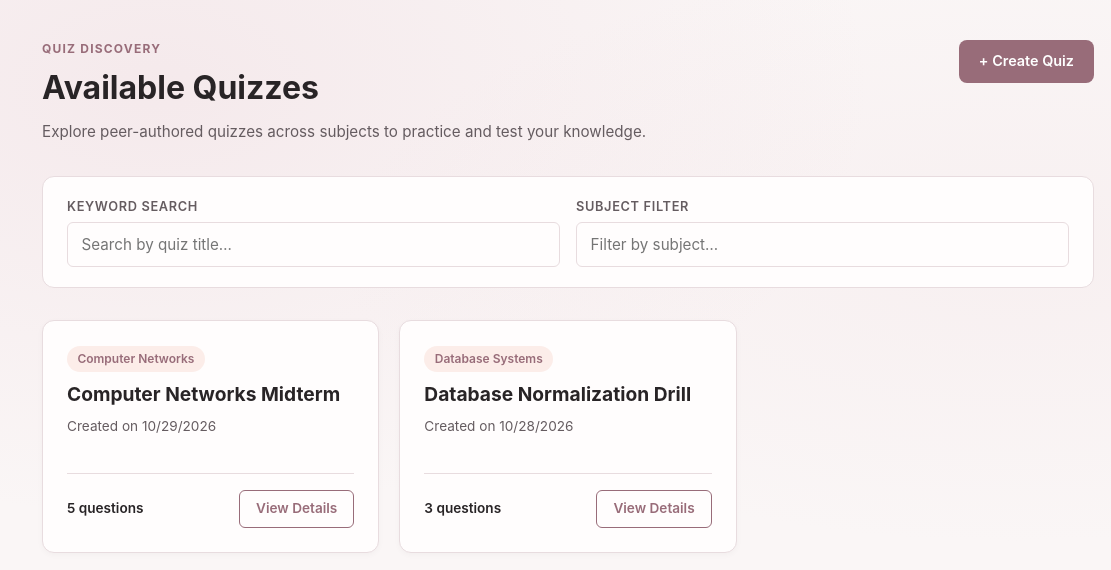
Test: QuizListPage (CSMQ-51) › clears filters when Clear Filters button is clicked
This screenshot has width=1111, height=570.
Check: the heading "Computer Networks Midterm" is shown, box x1=67 y1=382 x2=354 y2=408
Type "Networks" into the field with placeholder "Search by quiz title…".
click(314, 245); type("Networks")  # box x1=67 y1=222 x2=560 y2=267
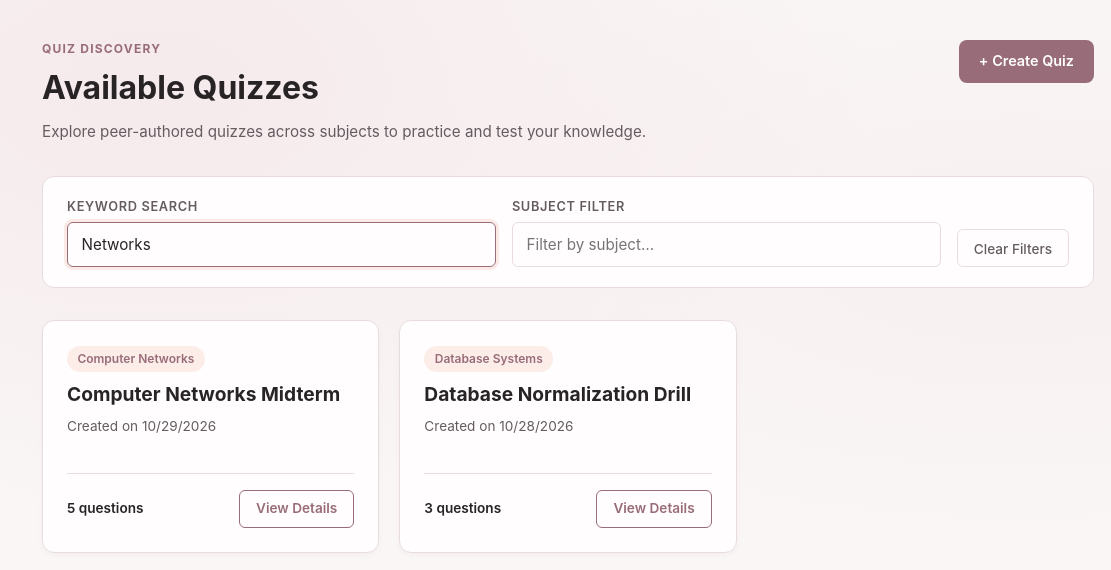
Click the button "Clear Filters".
click(1013, 248)  # box x1=957 y1=229 x2=1069 y2=267
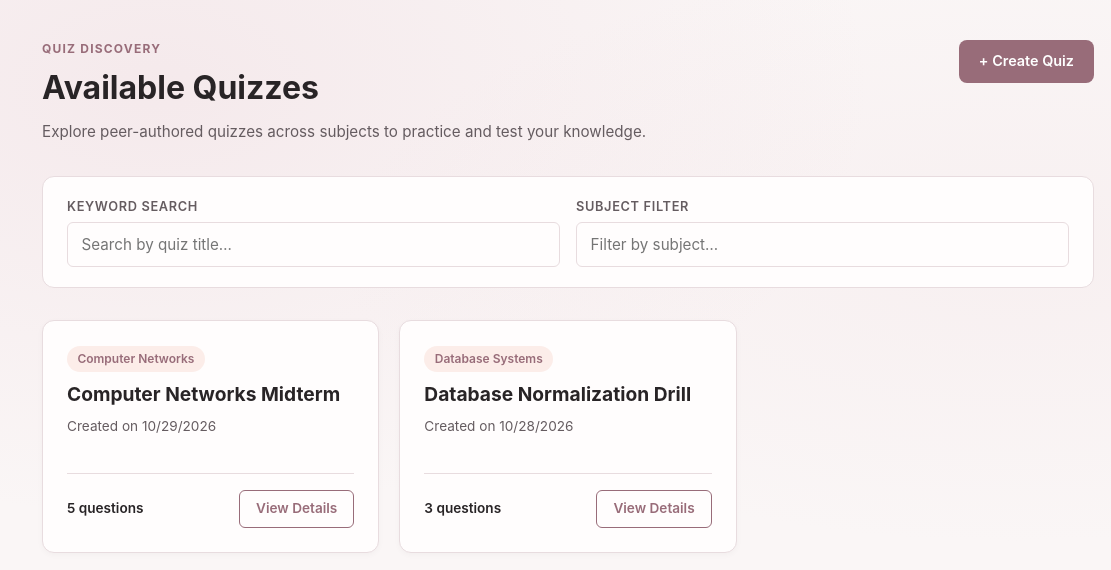
Check: the field with placeholder "Search by quiz title…" is empty, box x1=67 y1=222 x2=560 y2=267
